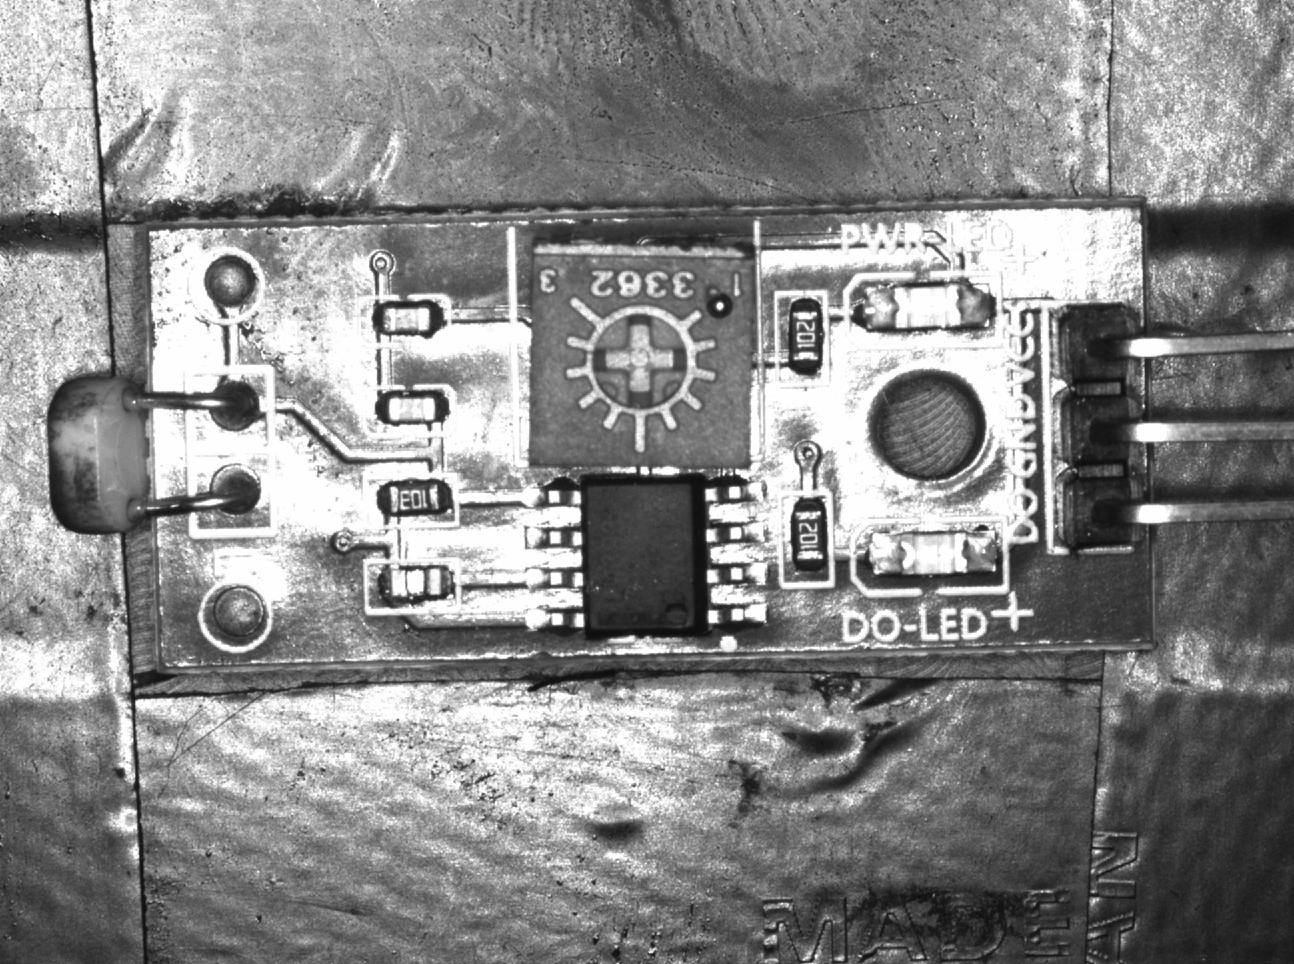miss: (366, 560, 458, 616)
ok: (779, 488, 838, 593), (775, 293, 834, 384), (365, 476, 456, 533), (356, 293, 454, 343), (363, 384, 453, 433)
